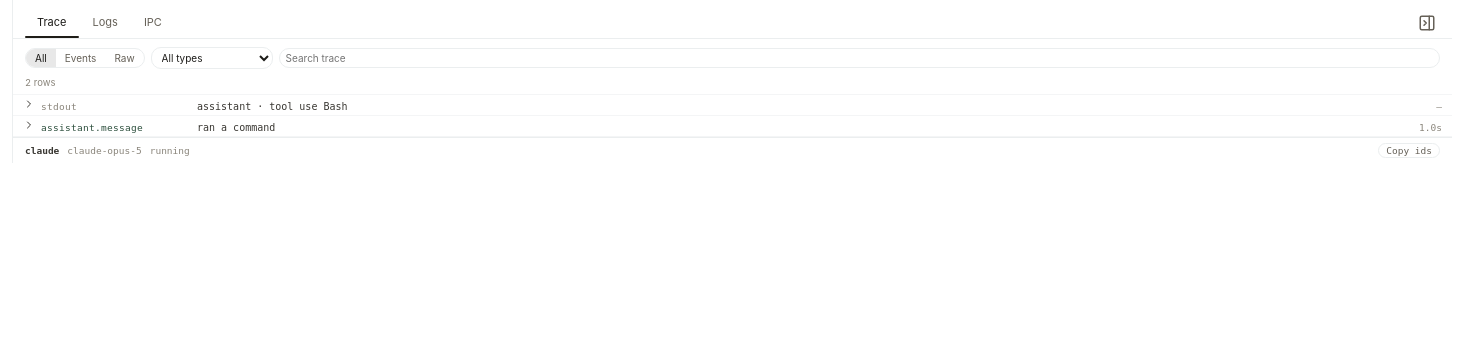
Test case: DebugPanel › interleaves raw output and events, and expands a row to the verbatim line
Expected: the button "assistant.message ran a command 1.0s" is shown, [13,116,1452,136]
Click the button "stdout assistant · tool_use Bash —" at (59,106), box [13,95,1452,115]
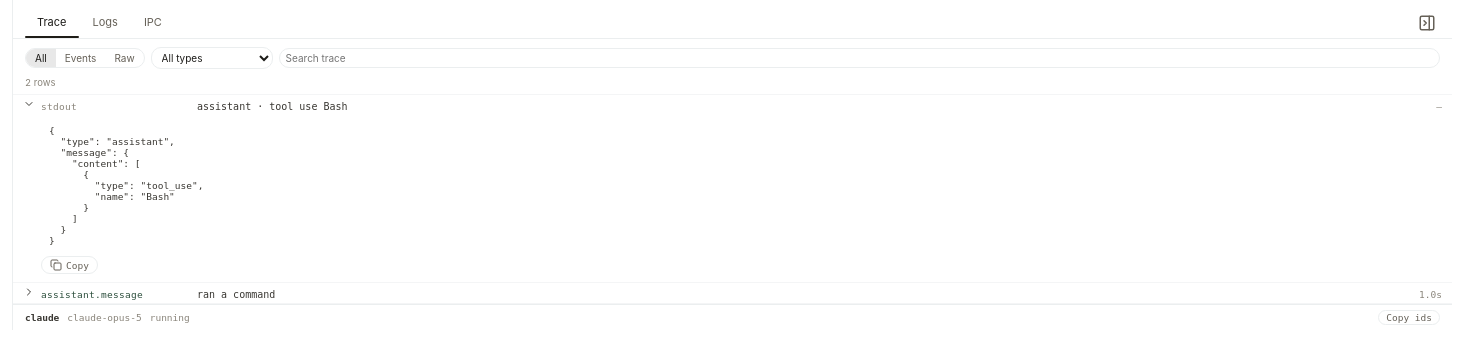
Now the text "\"name\": \"Bash\"" is shown, box [49,125,203,246]
